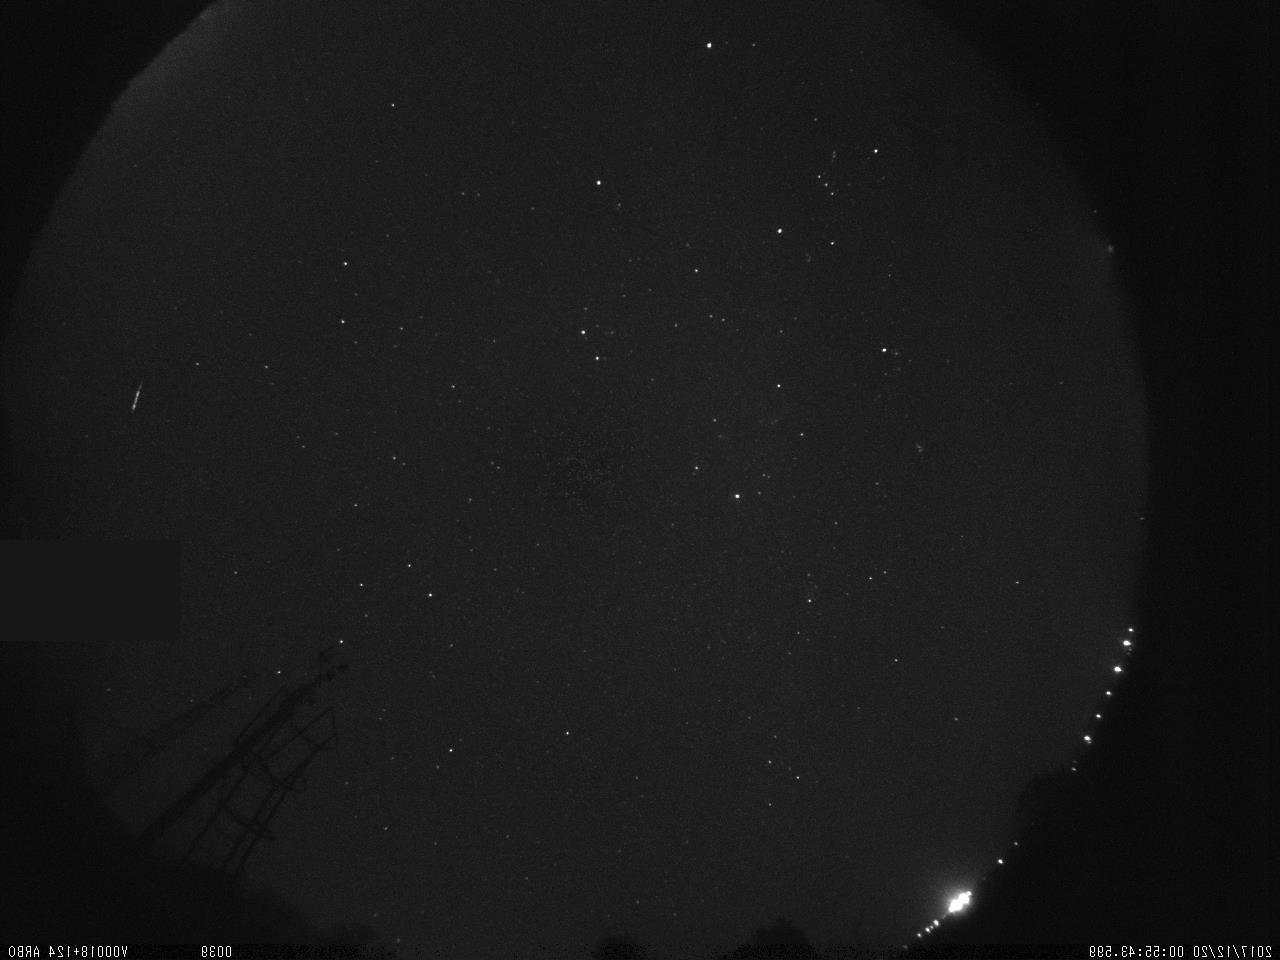meteor: (126, 373, 153, 417)
